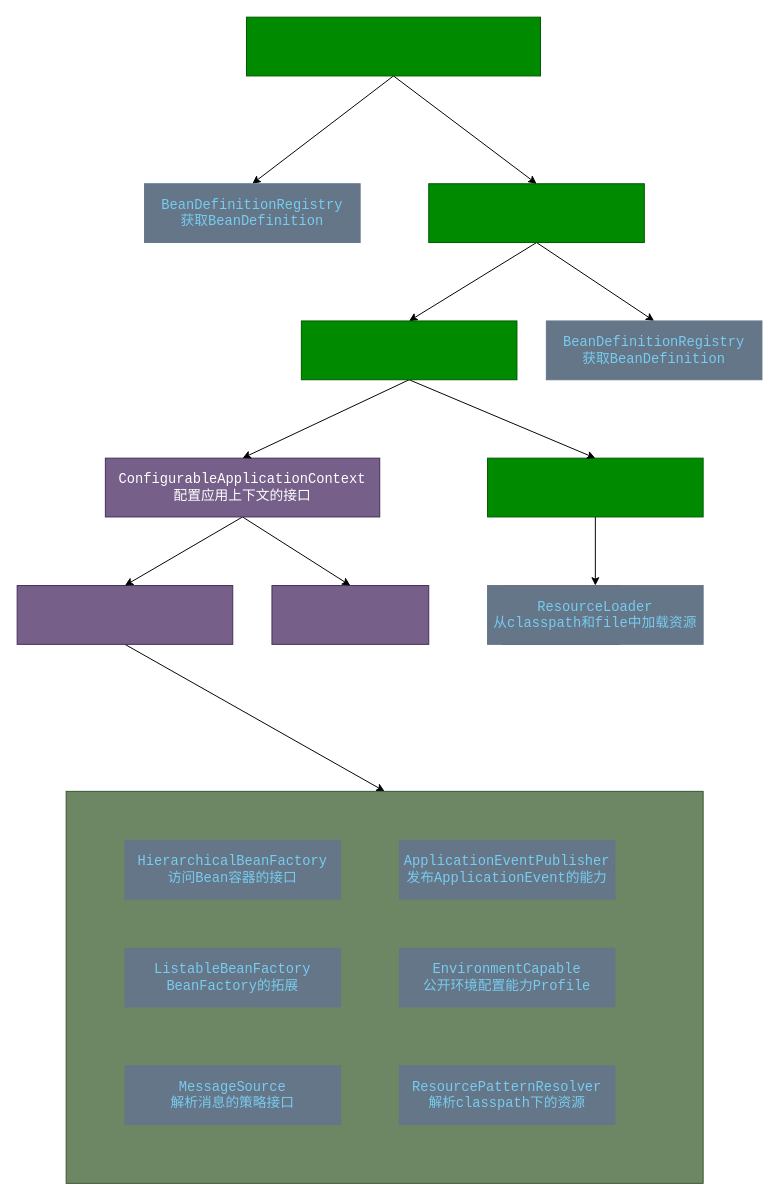
Image size: 779x1201. Some labels were removed from this diagram. Each missing label, with the centre of its shape:
AbstractApplicationContext 抽象的应用上下文封装: the point at 408,350
AnnotationConfigApplicationContext 实现注解注册功能: the point at 392,46
ApplicationContext 应用上下文中央接口: the point at 124,614
DefaultResourceLoader 默认资源加载器: the point at 595,487
GenericApplicationContext 通用的应用上下文封装: the point at 536,213
LifeCycle 定义启动停止生命周期: the point at 350,614
